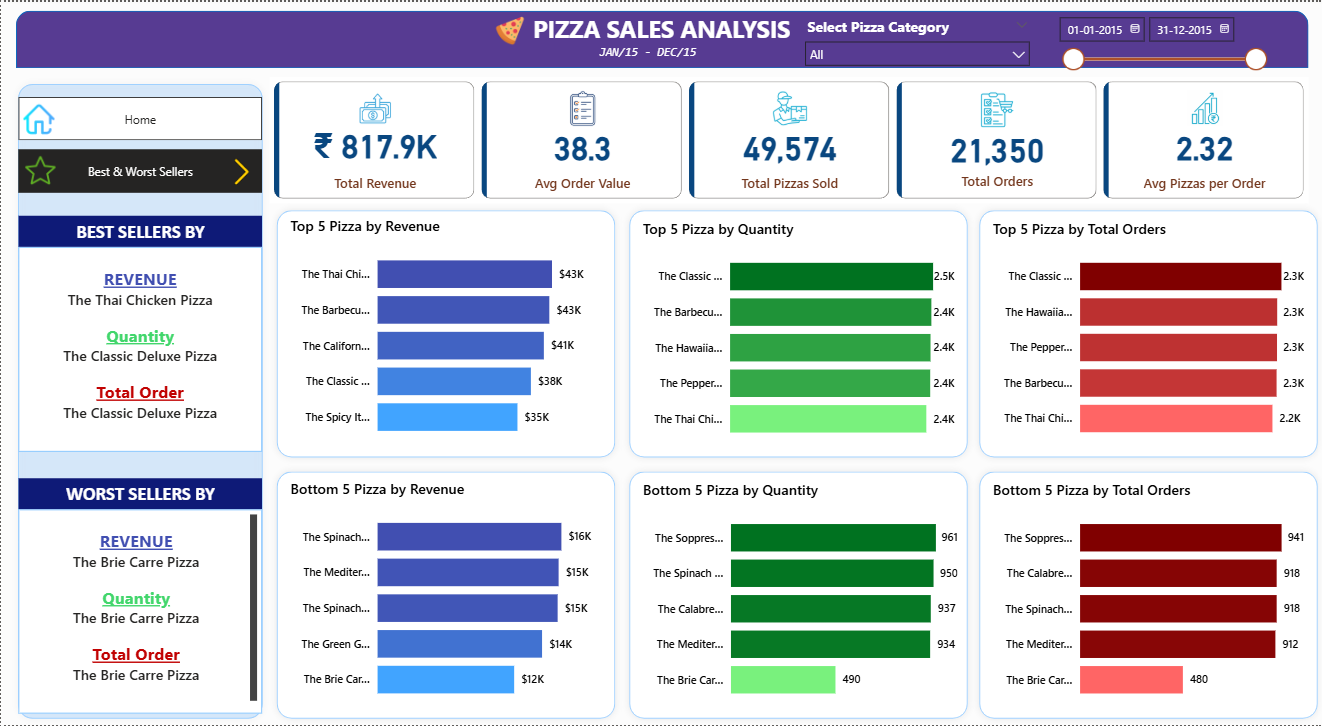

Layout of this report page (visuals, bound fields, positions):
{"tool":"powerbi","page":{"name":"Best & Worst Sellers","canvas":[1500,820],"ordinal":1},"visuals":[{"type":"cardVisual","fields":{"Data":["pizza_sales.Total Revenue","pizza_sales.Avg Order Value","pizza_sales.Total Pizzas Sold","pizza_sales.Total Orders","pizza_sales.Avg Pizzas per Order"]},"box":[304.6,85,1177.3,143.1],"z":0},{"type":"shape","box":[17,9.9,1464.9,65.2],"z":1000},{"type":"textbox","box":[596.4,7.1,304.6,51],"z":2000},{"type":"textbox","box":[672.9,42.5,153,29.8],"z":3000},{"type":"image","box":[546.9,11.3,59.5,42.5],"z":4000},{"type":"shape","box":[304.6,228.1,399.5,296.1],"z":5000},{"type":"shape","box":[11.3,85,293.3,735.3],"z":6000},{"type":"textbox","box":[19.8,242.3,276.3,35.4],"z":7000},{"type":"textbox","box":[19.8,277.7,276.3,232.3],"z":8000},{"type":"textbox","box":[19.8,539.8,276.3,35.4],"z":9000},{"type":"textbox","box":[19.8,575.2,276.3,230.9],"z":10000},{"type":"slicer","fields":{"Values":["pizza_sales.pizza_category"]},"box":[901,11.3,274.8,63.8],"z":11000},{"type":"slicer","fields":{"Values":["pizza_sales.order_date"]},"box":[1187.2,7.1,256.4,77.9],"z":12000},{"type":"shape","box":[704.1,228.1,399.5,296.1],"z":13000},{"type":"shape","box":[1100.8,228.1,399.5,296.1],"z":14000},{"type":"shape","box":[304.6,524.2,399.5,296.1],"z":15000},{"type":"shape","box":[704.1,524.2,399.5,296.1],"z":16000},{"type":"shape","box":[1100.8,524.2,399.5,296.1],"z":17000},{"type":"barChart","title":"Top 5 Pizza by Revenue","fields":{"Category":["pizza_sales.pizza_name"],"Y":["pizza_sales.Total Revenue"]},"box":[323,242.3,362.7,266.3],"z":18000},{"type":"barChart","title":"Bottom 5 Pizza by Revenue","fields":{"Category":["pizza_sales.pizza_name"],"Y":["pizza_sales.Total Revenue"]},"box":[323,539.8,362.7,266.3],"z":19000},{"type":"barChart","title":"Top 5 Pizza by Quantity","fields":{"Category":["pizza_sales.pizza_name"],"Y":["pizza_sales.Total Pizzas Sold"]},"box":[722,244.4,363.4,265.3],"z":20000},{"type":"barChart","title":"Bottom 5 Pizza by Quantity","fields":{"Category":["pizza_sales.pizza_name"],"Y":["pizza_sales.Total Pizzas Sold"]},"box":[722.5,541.2,366.9,264.9],"z":21000},{"type":"barChart","title":"Top 5 Pizza by Total Orders","fields":{"Category":["pizza_sales.pizza_name"],"Y":["pizza_sales.Total Orders"]},"box":[1119.2,245.1,362.7,264.9],"z":22000},{"type":"barChart","title":"Bottom 5 Pizza by Total Orders","fields":{"Category":["pizza_sales.pizza_name"],"Y":["pizza_sales.Total Orders"]},"box":[1119.2,541.2,362.7,264.9],"z":23000},{"type":"pageNavigator","box":[19.8,167.2,276.3,49.6],"z":24000},{"type":"pageNavigator","box":[19.8,107.7,276.3,49.6],"z":25000},{"type":"image","box":[249.3,172.8,46.8,39.7],"z":26000},{"type":"image","box":[19.8,110.5,46.8,45.3],"z":27000},{"type":"image","box":[22.7,164.3,43.9,52.4],"z":28000}]}

Visuals, with their boxes in screenshot pixels (x1, y1, x2, y2), scaled from the page's 1500x820 canvas onto the 1322x726 screenshot:
cardVisual - pizza_sales.Total Revenue x pizza_sales.Avg Order Value: 268/75/1306/202
shape: 15/9/1306/66
textbox: 526/6/794/51
textbox: 593/38/728/64
image: 482/10/534/48
shape: 268/202/621/464
shape: 10/75/268/725
textbox: 17/215/261/246
textbox: 17/246/261/452
textbox: 17/478/261/509
textbox: 17/509/261/714
slicer - pizza_sales.pizza_category: 794/10/1036/66
slicer - pizza_sales.order_date: 1046/6/1272/75
shape: 621/202/973/464
shape: 970/202/1321/464
shape: 268/464/621/725
shape: 621/464/973/725
shape: 970/464/1321/725
"Top 5 Pizza by Revenue" barChart: 285/215/604/450
"Bottom 5 Pizza by Revenue" barChart: 285/478/604/714
"Top 5 Pizza by Quantity" barChart: 636/216/957/451
"Bottom 5 Pizza by Quantity" barChart: 637/479/960/714
"Top 5 Pizza by Total Orders" barChart: 986/217/1306/452
"Bottom 5 Pizza by Total Orders" barChart: 986/479/1306/714
pageNavigator: 17/148/261/192
pageNavigator: 17/95/261/139
image: 220/153/261/188
image: 17/98/59/138
image: 20/145/59/192
